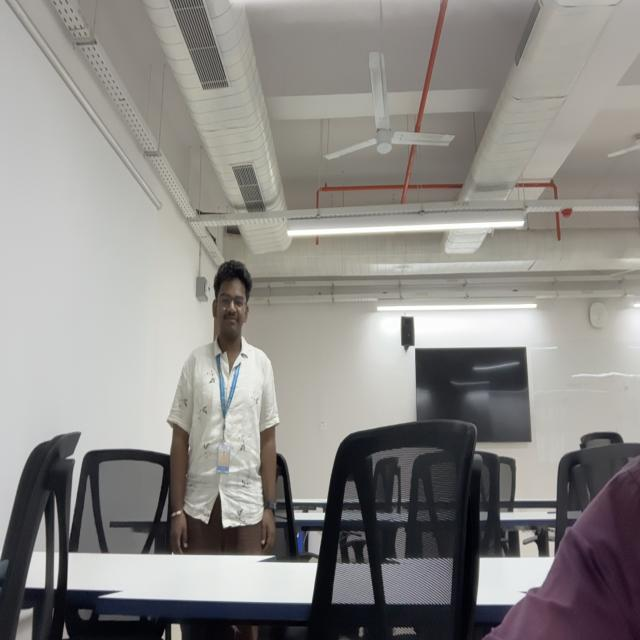sai: (213, 260, 250, 340)
